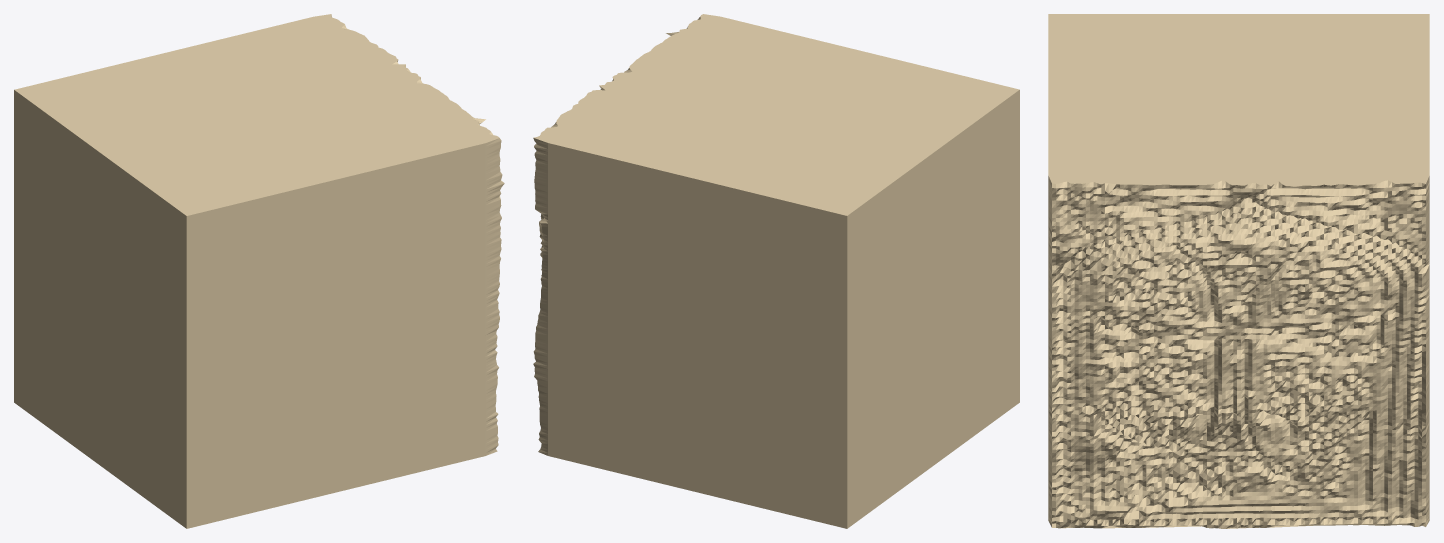
File: cross3.png - copia.obj
3 renders of one model, left to right at view 1: azimuth 30°, elevation 25°; view 2: azimuth 150°, elevation 25°; view 3: azimuth 270°, elevation 25°, orthographic. The views are drawn at different scales.
Visible parts, largest first — view 1: Cube; view 2: Cube; view 3: Cube.
Part boxes in pixels (<box>): Cube: <box>14,14,504,528</box>; Cube: <box>533,14,1019,528</box>; Cube: <box>1048,14,1429,528</box>.
Size of the model in its own units: 1.09 by 1 by 1.
